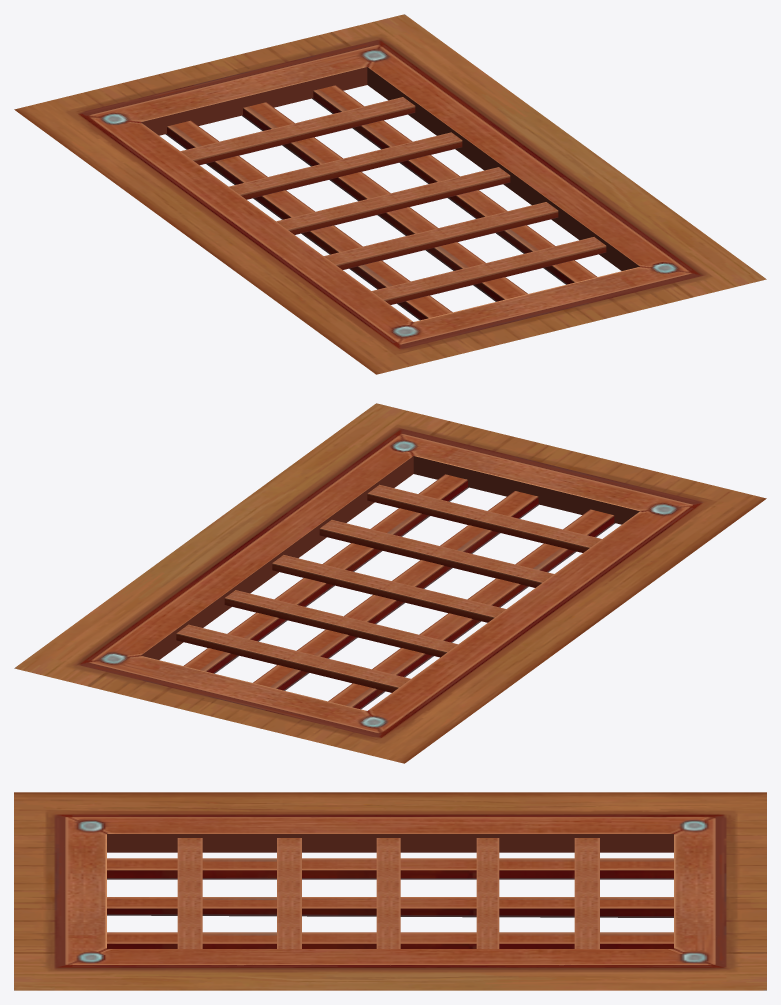
Rendered from FB_ShenLou_01.FBX.
The picture shows the model from 3 angles, top to bottom: view 1: azimuth 30°, elevation 25°; view 2: azimuth 150°, elevation 25°; view 3: azimuth 270°, elevation 25°; orthographic projection. The views are drawn at different scales.
Visible parts, largest first — view 1: Object09; view 2: Object09; view 3: Object09.
Part boxes in pixels (<box>): Object09: <box>14,14,766,374</box>; Object09: <box>14,403,766,763</box>; Object09: <box>14,792,766,990</box>.
Size of the model in its own units: 6.23 by 0.2984 by 10.
